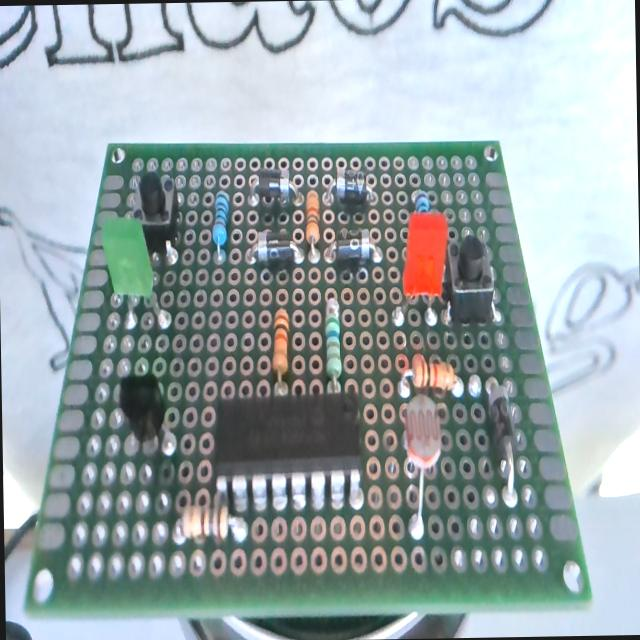IC: (207, 392, 369, 512)
cds: (400, 392, 444, 535)
diode: (484, 374, 519, 506), (248, 228, 302, 268), (326, 228, 379, 268), (248, 169, 300, 209), (322, 170, 374, 207)
led: (101, 212, 162, 335), (396, 200, 450, 326)
resistor: (178, 485, 243, 547), (398, 350, 459, 398), (270, 308, 290, 395), (324, 297, 342, 388), (210, 191, 230, 265), (304, 190, 320, 262)
switch: (444, 234, 494, 326), (130, 168, 180, 258)
transistor: (119, 369, 166, 448)
